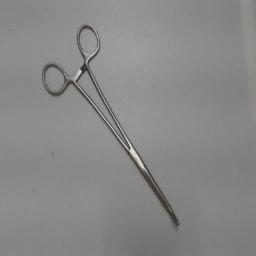Lahey Forceps: (38, 17, 186, 233)
